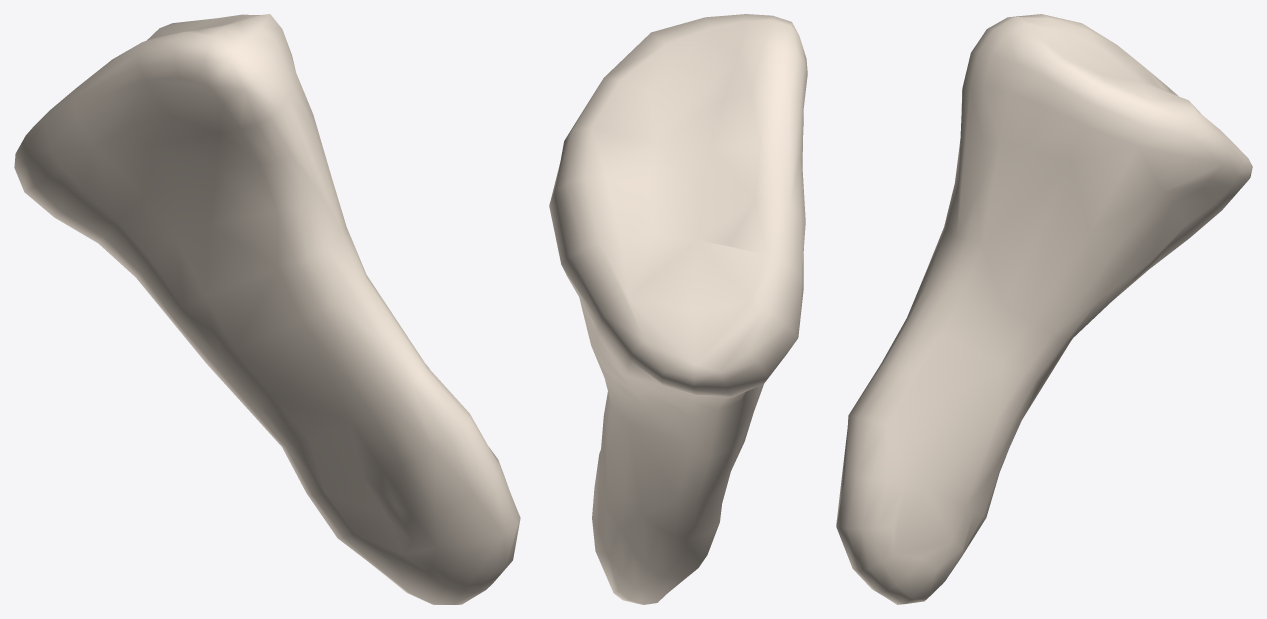
File: left_digit_1_distal.glb
The picture shows the model from 3 angles, left to right: view 1: azimuth 30°, elevation 25°; view 2: azimuth 150°, elevation 25°; view 3: azimuth 270°, elevation 25°; orthographic projection. The views are drawn at different scales.
Parts seen in each view (by area): view 1: Distal phalanx of 1st finger.r; view 2: Distal phalanx of 1st finger.r; view 3: Distal phalanx of 1st finger.r.
Boxes of the visible parts, x1=… form: Distal phalanx of 1st finger.r: x1=14, y1=14, x2=520, y2=604; Distal phalanx of 1st finger.r: x1=549, y1=14, x2=807, y2=604; Distal phalanx of 1st finger.r: x1=836, y1=14, x2=1252, y2=604.
Bounding box in the file's own units: 0.00979 × 0.0166 × 0.0123.
